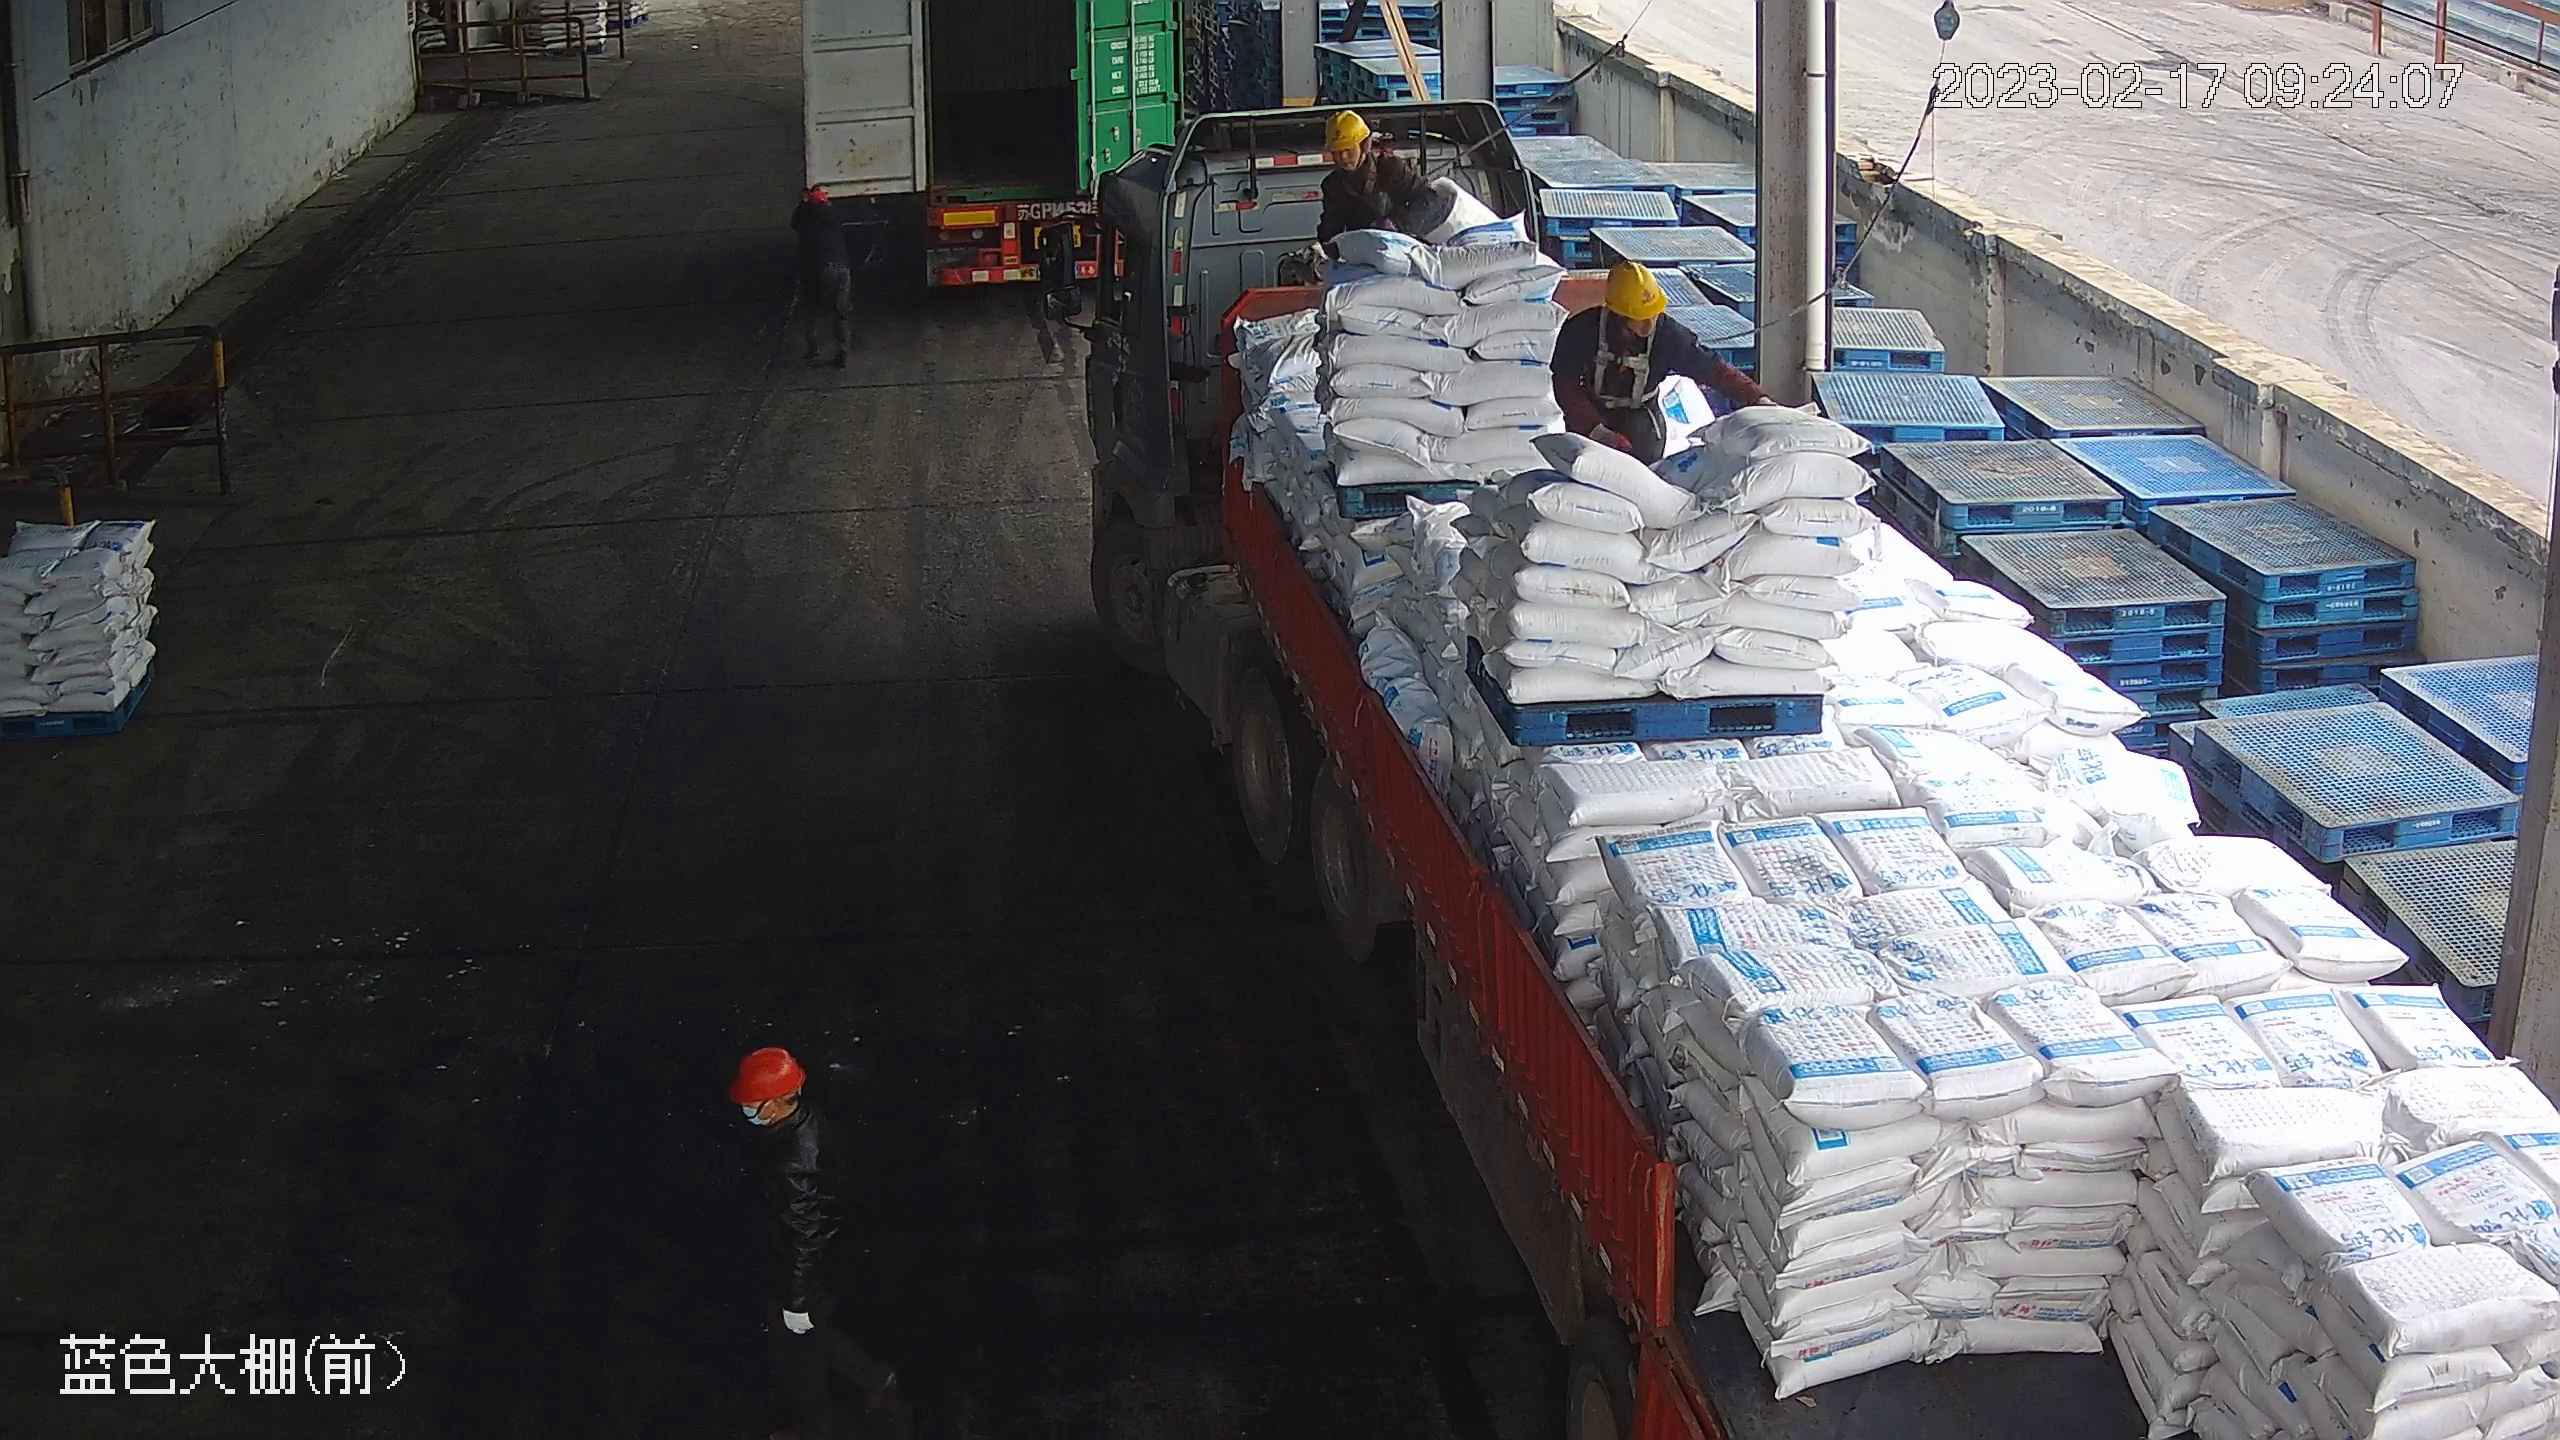belt: (1592, 330, 1665, 409), (1341, 157, 1389, 199)
head: (726, 1043, 827, 1178), (1565, 260, 1690, 363), (1322, 109, 1402, 189), (789, 182, 837, 233)
helmet: (729, 1044, 805, 1114), (1599, 259, 1668, 325), (1324, 108, 1369, 145)
people: (719, 1038, 879, 1413), (1545, 255, 1761, 486), (789, 181, 851, 375)
truck: (1035, 94, 2554, 1440), (798, 1, 1186, 297)
